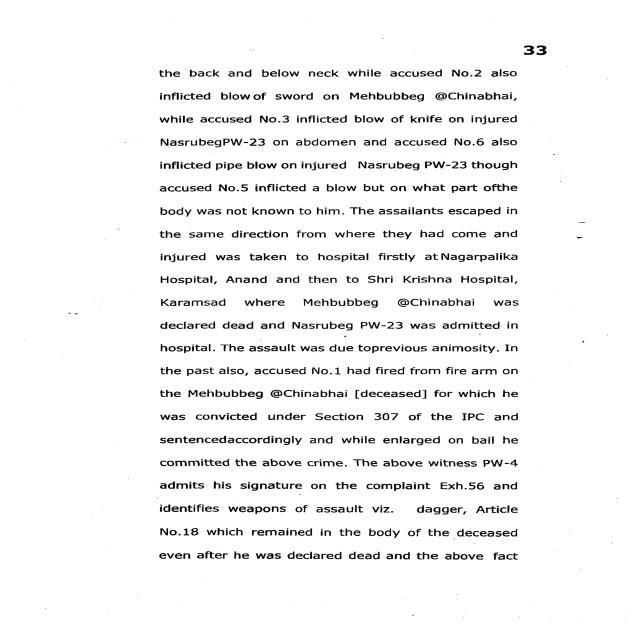page-number: (435, 0, 639, 67)
